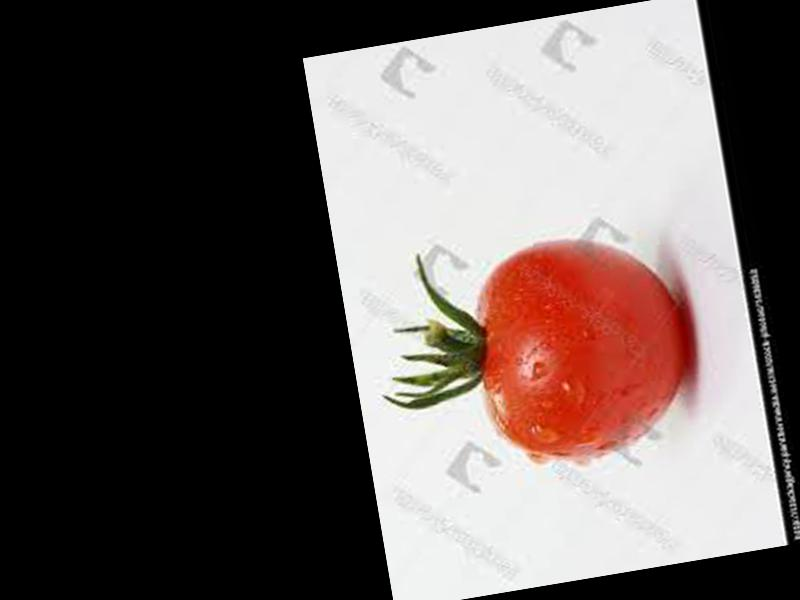Tomato: (465, 222, 701, 471)
